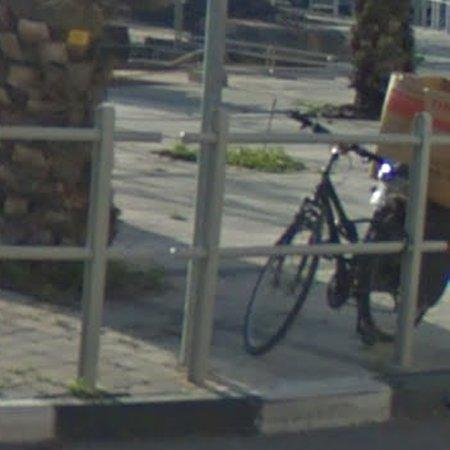bicycles: (276, 145, 408, 247), (245, 256, 322, 356), (328, 256, 402, 345), (419, 253, 450, 324), (429, 204, 450, 240)
